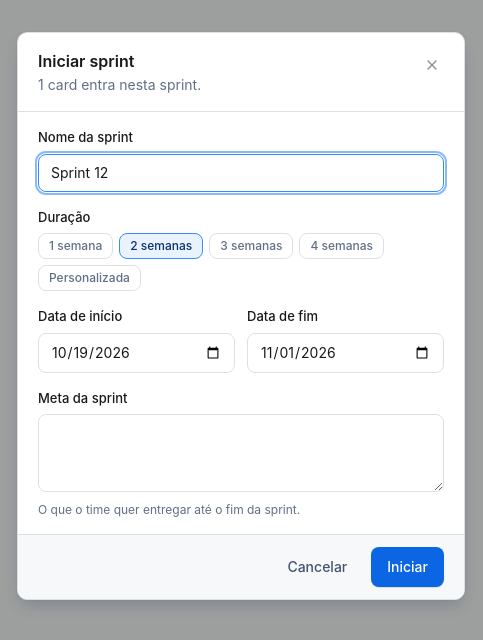
Test: <StartSprintModal /> › fim antes do início bloqueia o botão e explica
Type "2026-10-01" into the date field labelled "Data de fim" at [346, 352], box [247, 332, 444, 372]
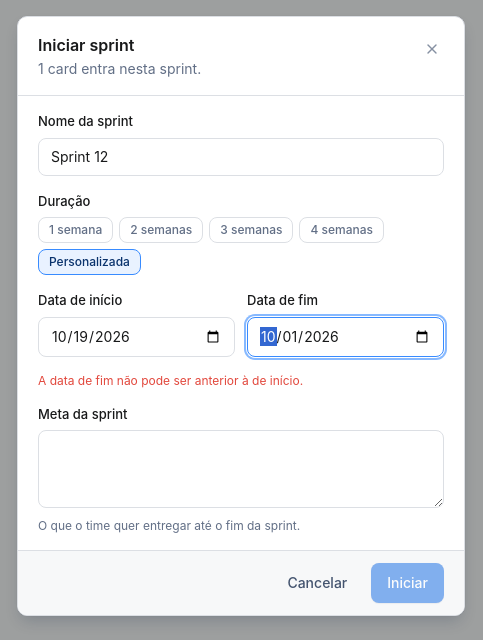
Now the button "Iniciar" is disabled, box [371, 563, 444, 603]
Now the text "A data de fim não pode ser anterior à de início." is shown, box [38, 372, 303, 388]
